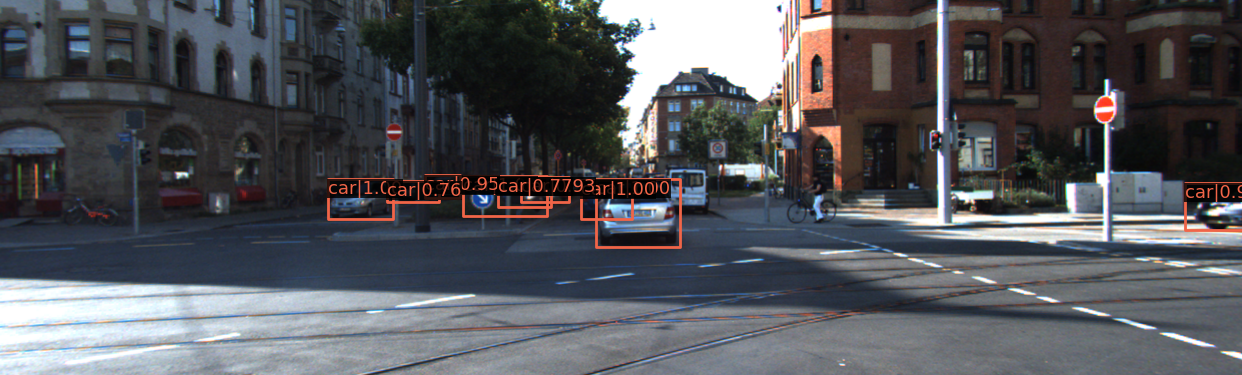car: (600, 186, 678, 251), (1188, 180, 1242, 236), (469, 178, 547, 213), (325, 181, 393, 219), (582, 179, 629, 220), (490, 182, 564, 208)
person: (513, 170, 529, 223)
